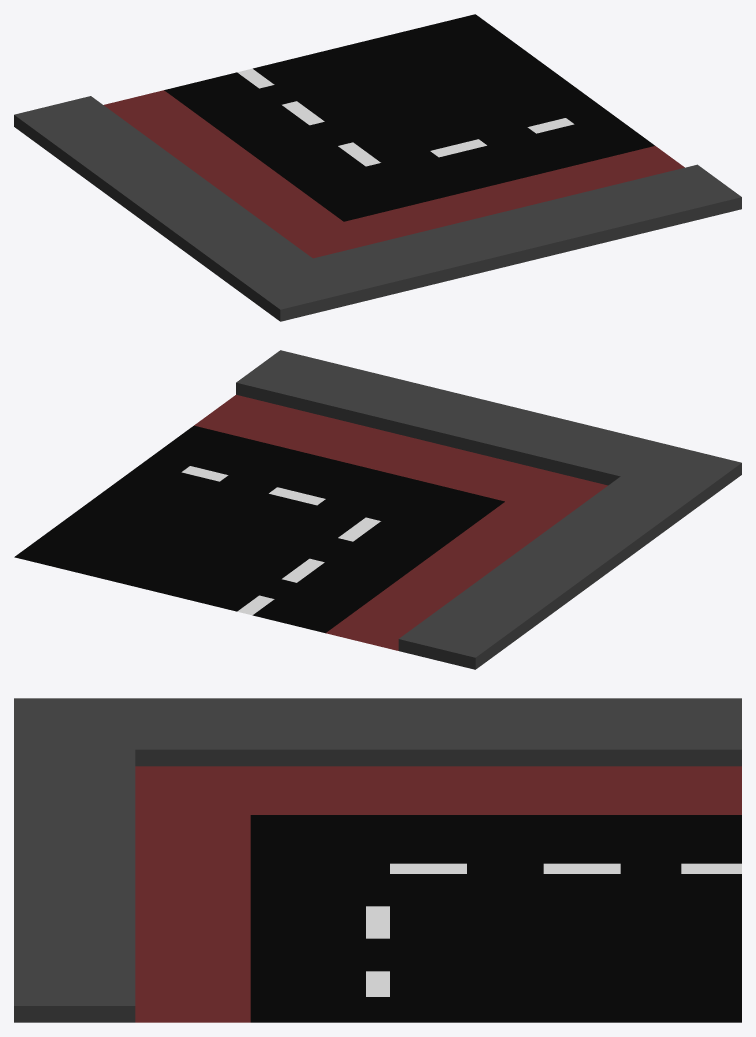
The model's file is RoadCornerLvl2.fbx.
3 renders of one model, top to bottom at view 1: azimuth 30°, elevation 25°; view 2: azimuth 150°, elevation 25°; view 3: azimuth 270°, elevation 25°, orthographic. The views are drawn at different scales.
Visible parts, largest first — view 1: RoadCornerLvl2.001; view 2: RoadCornerLvl2.001; view 3: RoadCornerLvl2.001.
Part boxes in pixels (bbox=[...]): RoadCornerLvl2.001: bbox=[14, 14, 741, 321]; RoadCornerLvl2.001: bbox=[14, 350, 741, 669]; RoadCornerLvl2.001: bbox=[14, 698, 741, 1022].
Bounding box in the file's own units: 800 × 20 × 800.
